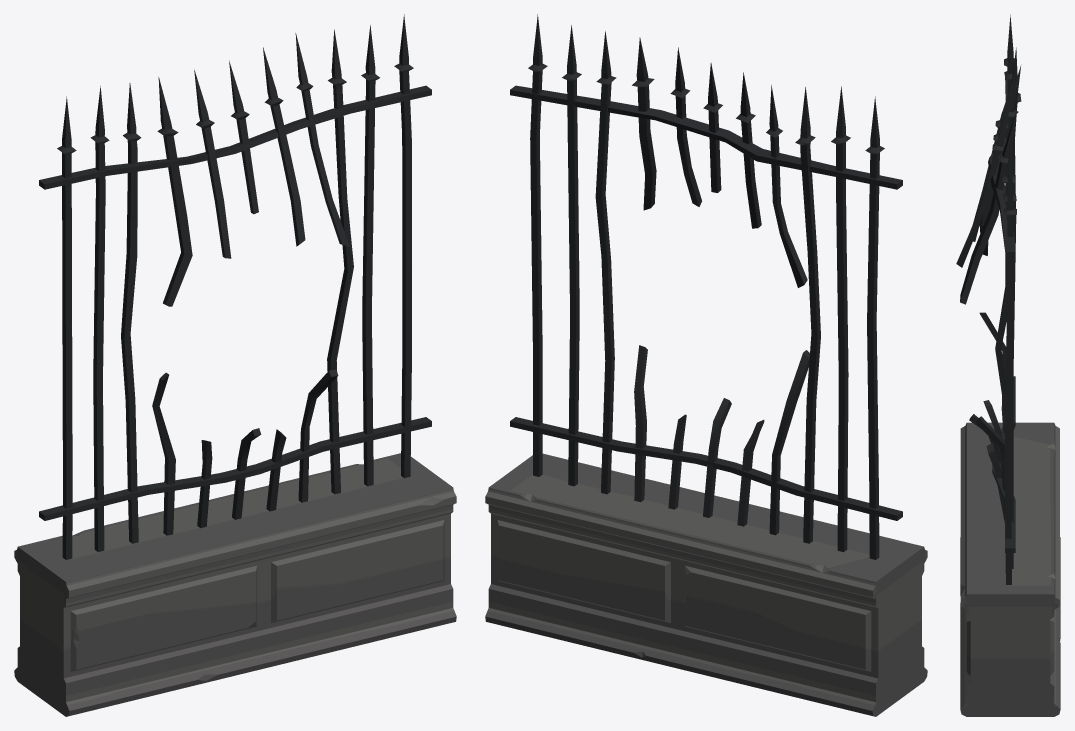
The model's file is SM_Bld_Fence_01_Broken_01.fbx.
3 renders of one model, left to right at view 1: azimuth 30°, elevation 25°; view 2: azimuth 150°, elevation 25°; view 3: azimuth 270°, elevation 25°, orthographic. The views are drawn at different scales.
Parts seen in each view (by area): view 1: SM_Bld_Fence_01_Broken_01; view 2: SM_Bld_Fence_01_Broken_01; view 3: SM_Bld_Fence_01_Broken_01.
Boxes of the visible parts, box(x1,y1,x2,y2) form: SM_Bld_Fence_01_Broken_01: box(14, 14, 456, 716); SM_Bld_Fence_01_Broken_01: box(485, 14, 927, 716); SM_Bld_Fence_01_Broken_01: box(956, 14, 1060, 716).
Bounding box in the file's own units: 250 × 372 × 64.21.
